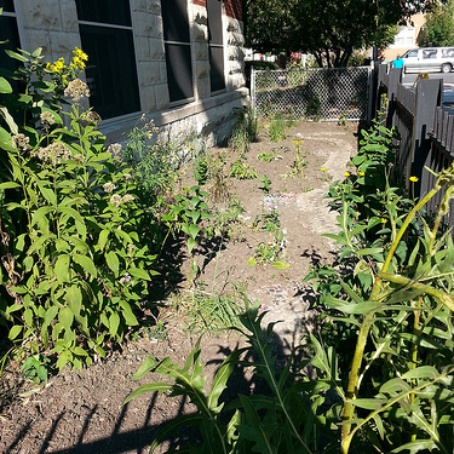building: (2, 1, 252, 147)
tree: (248, 1, 398, 119)
vegetation: (1, 48, 220, 377), (183, 179, 454, 442)
